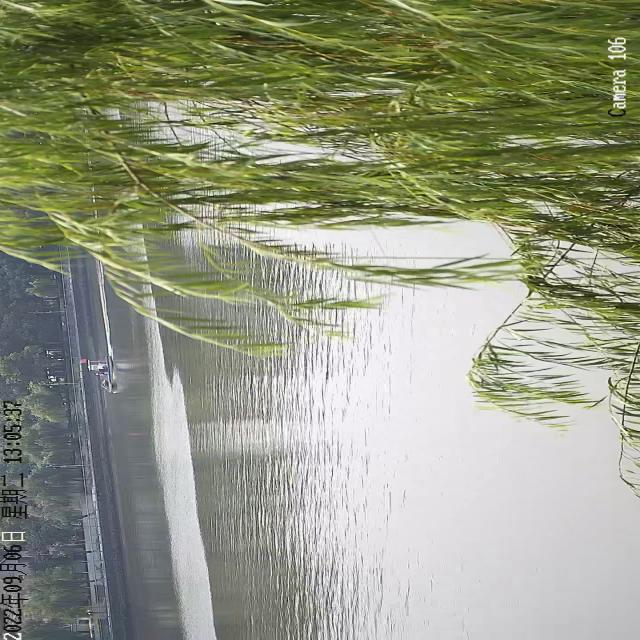ship: (80, 354, 117, 392)
